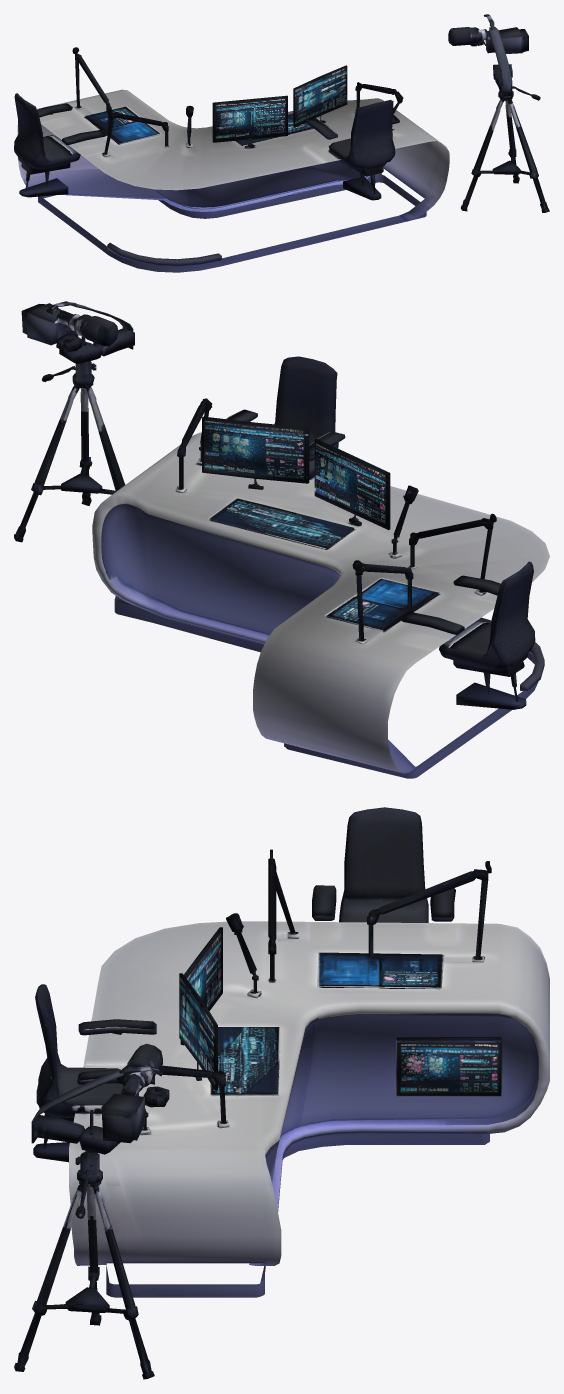
File: broadcast_studio_desk.glb
3 renders of one model, top to bottom at view 1: azimuth 30°, elevation 25°; view 2: azimuth 150°, elevation 25°; view 3: azimuth 270°, elevation 25°, orthographic. The views are drawn at different scales.
Parts seen in each view (by area): view 1: tripo_node_6522dd87-bf50-4aa0-a2d0-43f9826742a9; view 2: tripo_node_6522dd87-bf50-4aa0-a2d0-43f9826742a9; view 3: tripo_node_6522dd87-bf50-4aa0-a2d0-43f9826742a9.
Boxes of the visible parts, bbox=[...] form: tripo_node_6522dd87-bf50-4aa0-a2d0-43f9826742a9: bbox=[14, 14, 549, 272]; tripo_node_6522dd87-bf50-4aa0-a2d0-43f9826742a9: bbox=[14, 301, 549, 778]; tripo_node_6522dd87-bf50-4aa0-a2d0-43f9826742a9: bbox=[14, 807, 549, 1379].
Bounding box in the file's own units: 0.998 × 0.3848 × 0.6465.
Materials: 1 (1 with a texture image).
